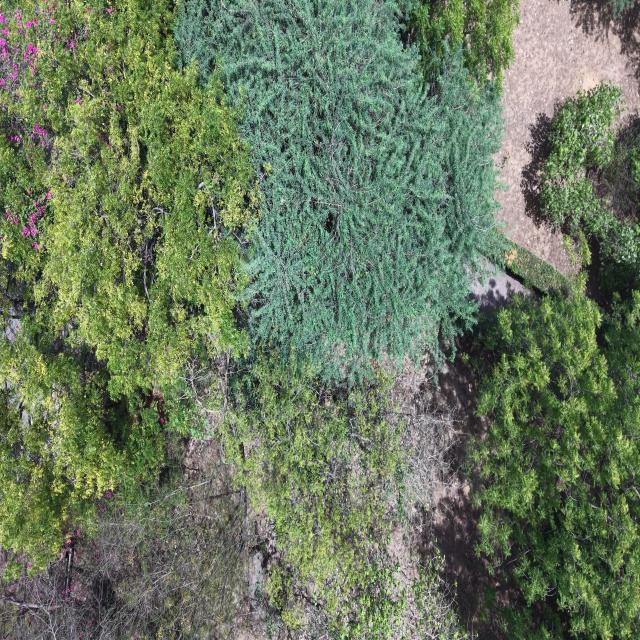DRY_AREA: (496, 0, 639, 274), (496, 0, 639, 273), (471, 268, 529, 311)
VEGETATION_TREE: (0, 0, 639, 639), (0, 1, 404, 634), (176, 2, 499, 631), (0, 2, 258, 574), (175, 0, 500, 377), (0, 1, 257, 395), (470, 83, 639, 639), (0, 459, 466, 639), (220, 347, 451, 635), (471, 290, 639, 639), (0, 459, 269, 639), (221, 349, 399, 613), (0, 313, 163, 577), (0, 379, 162, 578), (265, 545, 467, 639), (540, 82, 639, 266), (0, 391, 89, 580), (53, 372, 162, 499), (540, 82, 621, 233), (391, 371, 460, 520), (411, 0, 519, 89), (160, 344, 233, 439), (600, 123, 639, 269), (407, 552, 467, 639), (504, 243, 569, 291), (610, 0, 634, 16)
